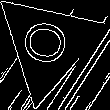O_E: (19, 18, 77, 71)
